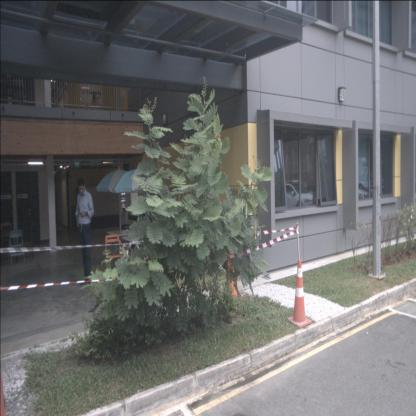human-pedestrian-adult: (74, 177, 95, 284)
movable_object-trafficcone: (287, 259, 312, 328), (222, 244, 241, 297)
vehicle-car: (275, 180, 316, 214), (348, 179, 378, 208)
